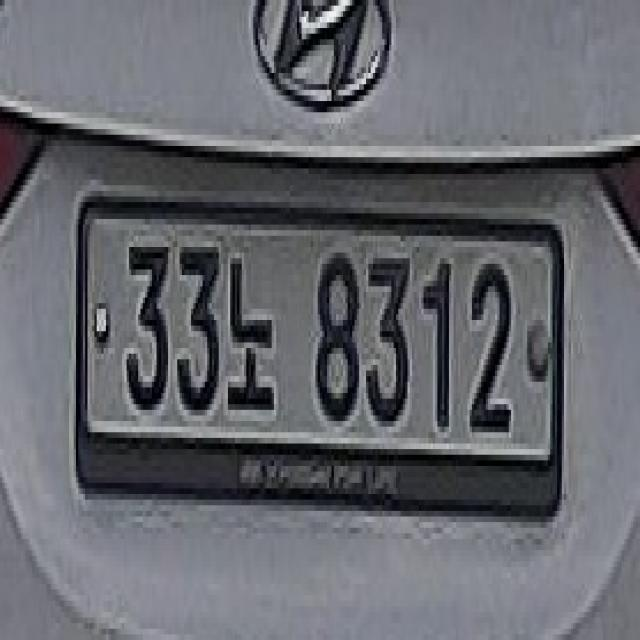1: (419, 253, 454, 432)
2: (467, 252, 516, 443)
3: (122, 230, 173, 432), (168, 230, 221, 421), (366, 253, 414, 438)
8: (313, 241, 362, 427)
license_plate: (85, 202, 562, 483)
no: (226, 241, 278, 427)
